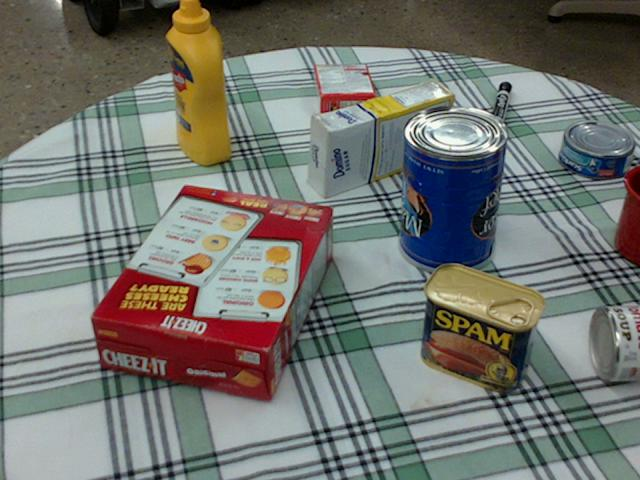cracker_box: (89, 187, 332, 399)
gelatin_box: (314, 64, 375, 112)
large_marker: (487, 81, 512, 133)
master_chef_can: (397, 104, 510, 272)
mug: (614, 165, 639, 266)
mustard_bottle: (166, 0, 229, 163)
potted_meat_can: (420, 263, 544, 390)
sugar_box: (308, 79, 453, 198)
tomato_soup_can: (591, 305, 639, 380)
tuna_fish_can: (559, 121, 634, 178)
